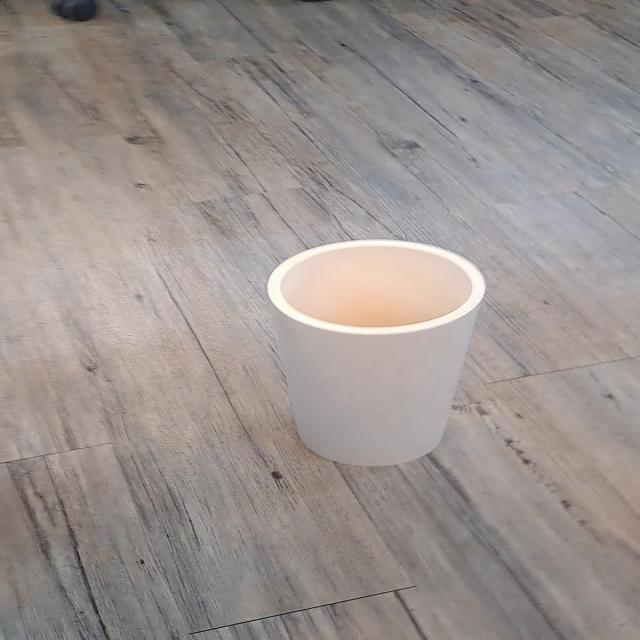CORAL: (223, 206, 516, 507)
